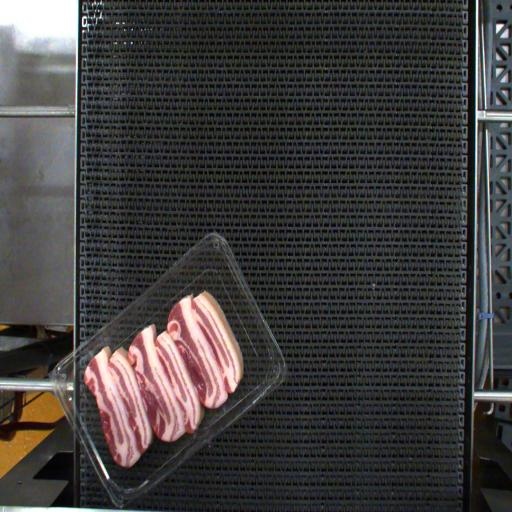packaging-error: (220, 403, 230, 417), (190, 432, 200, 442)
